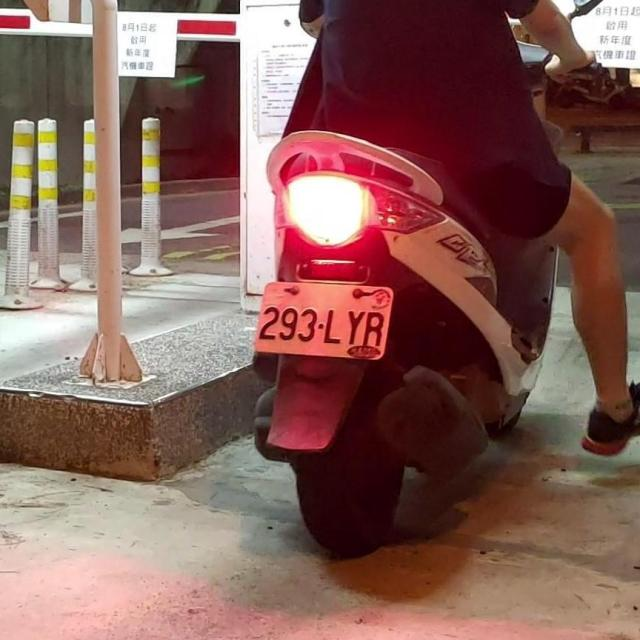W: (249, 276, 398, 362)
